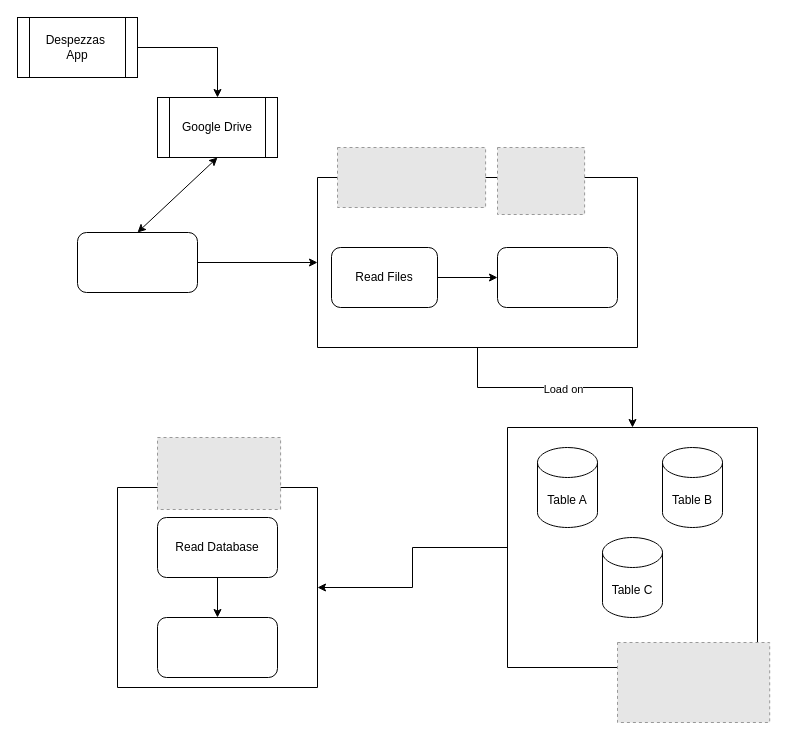
Image size: 788x740. Some labels were removed from this diagram. Grey dashed boxes stand in for pictures. The shapes that lost their labels are listed below. From the top down, each one's centre as x and y in pixels, then its label:
(x=137, y=262): Download Data
(x=557, y=277): Clean & Transform
(x=217, y=647): Update Dasboad
